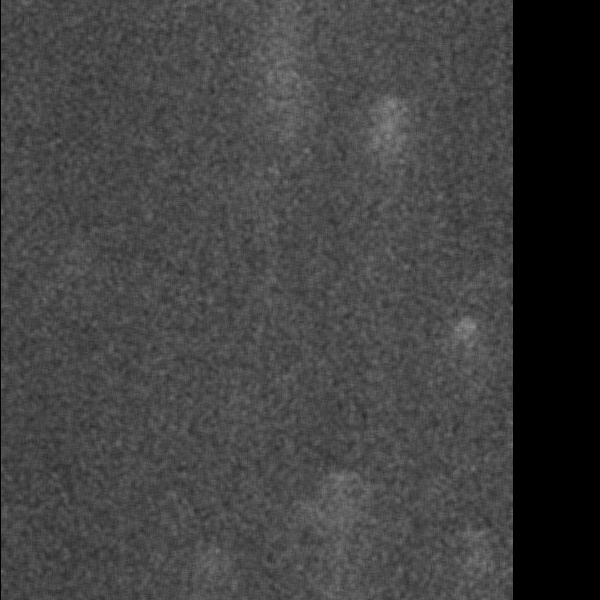spark: (373, 89, 403, 181), (442, 313, 482, 345), (322, 469, 356, 493), (202, 541, 228, 562)
